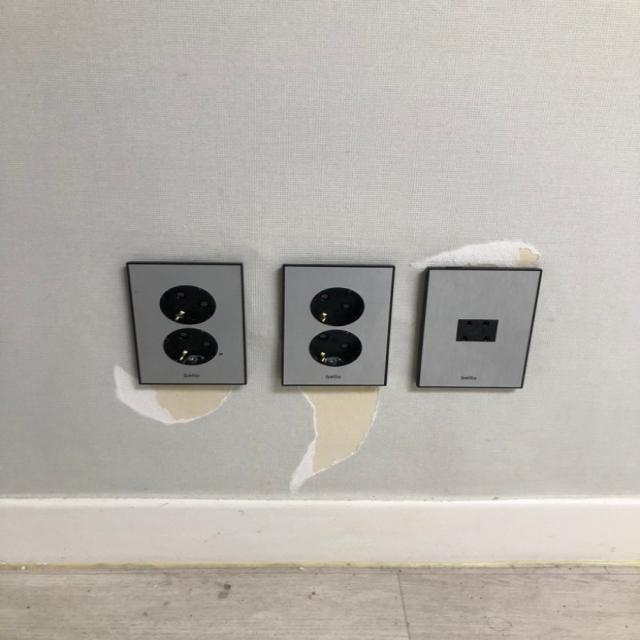typeb: (96, 249, 260, 422), (270, 244, 406, 408)
